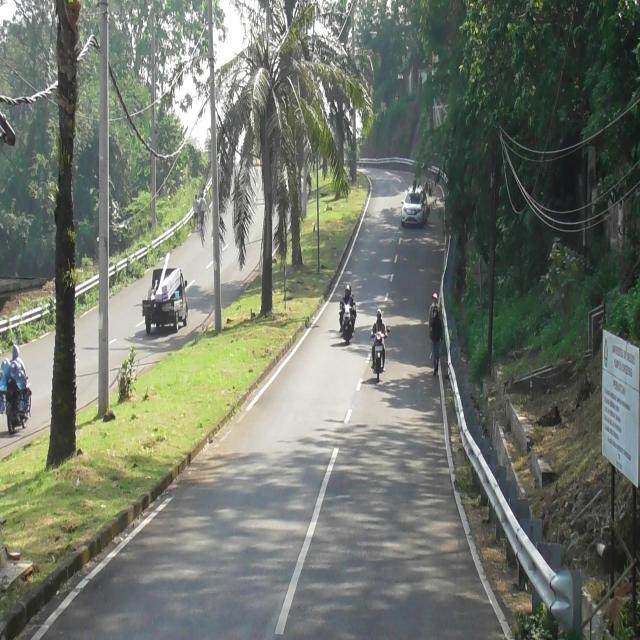motorcycle: (370, 330, 386, 384), (342, 304, 352, 344)
person: (371, 309, 386, 372), (339, 285, 356, 311), (349, 284, 356, 314)
rider_region: (371, 306, 388, 387), (338, 280, 357, 346)
